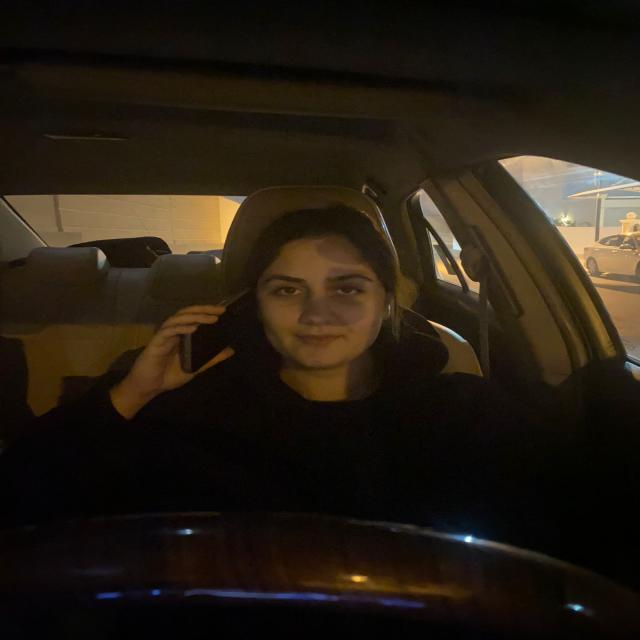phone: (178, 286, 256, 375)
